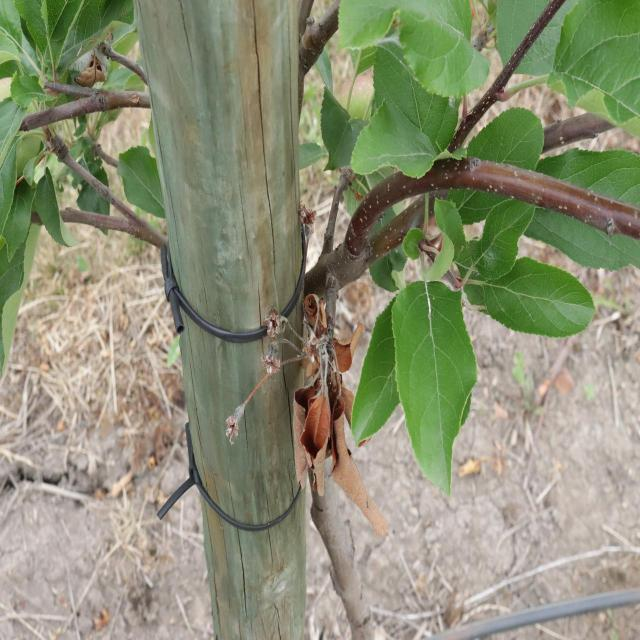-FireBlight-: (284, 313, 370, 511)
